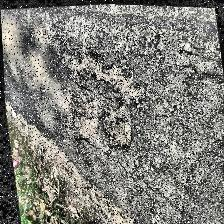pothole: (56, 54, 134, 160)
